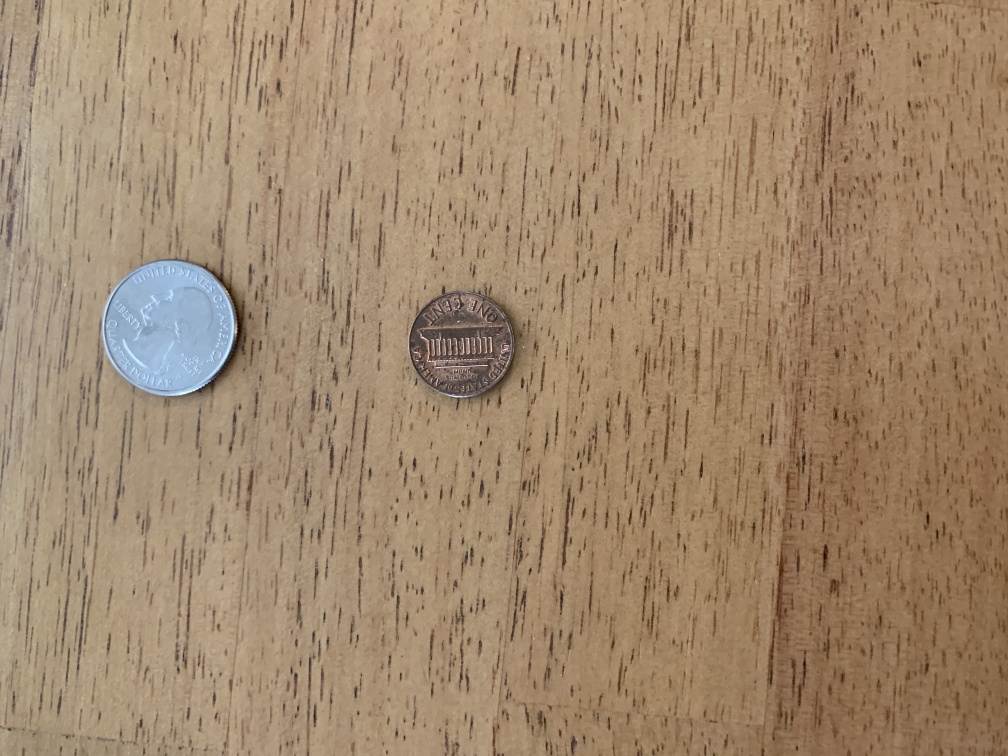penny: (405, 290, 517, 403)
quarter: (98, 257, 243, 401)
